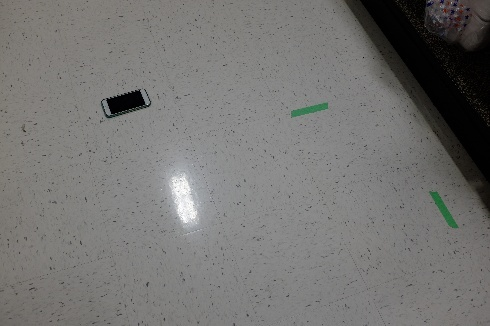phone: (100, 86, 149, 118)
